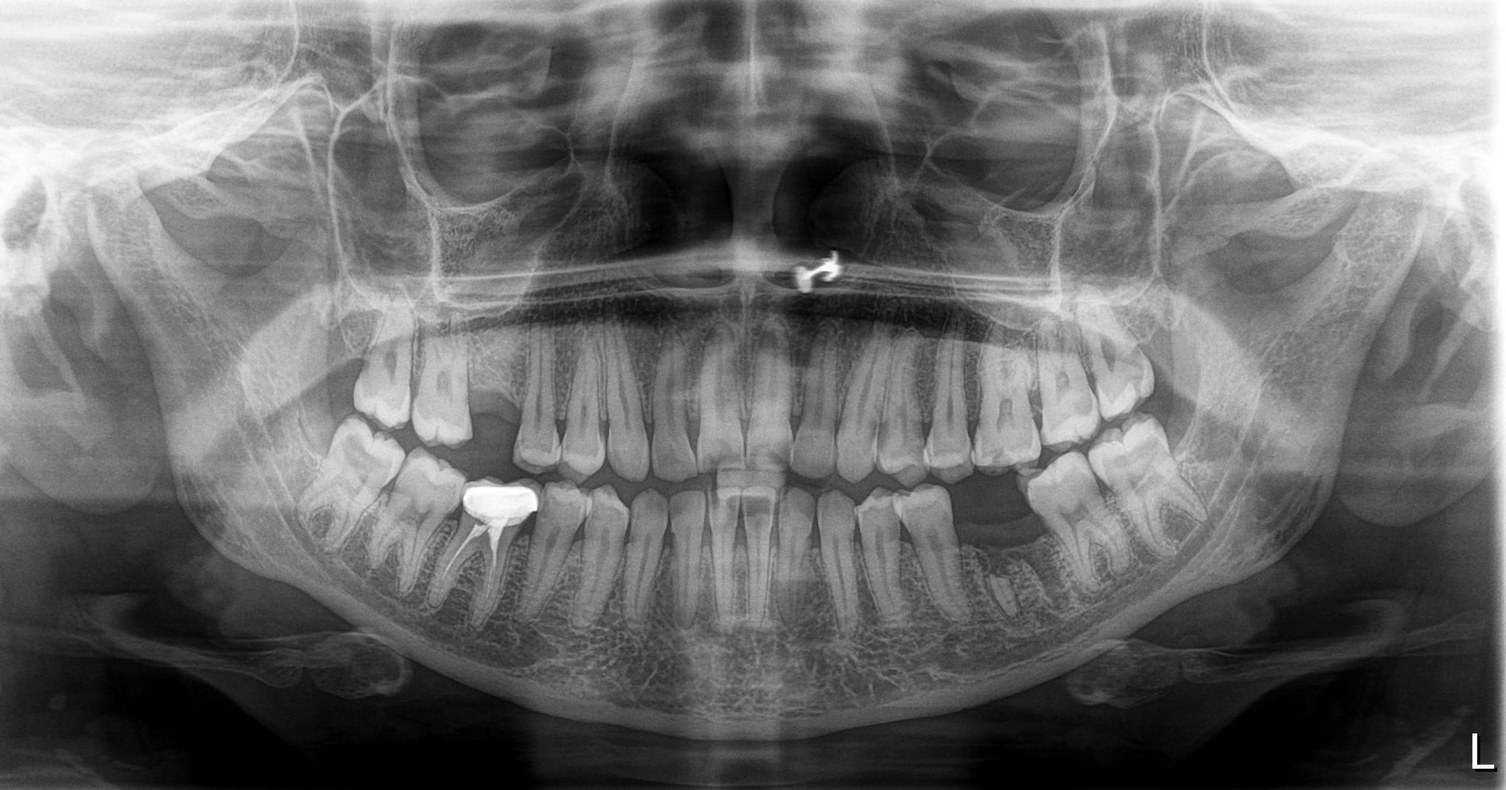Endodontically Treated Tooth: (469, 483, 539, 606)
Missing Tooth: (471, 334, 530, 447)
Retained Root: (952, 481, 1063, 634)
